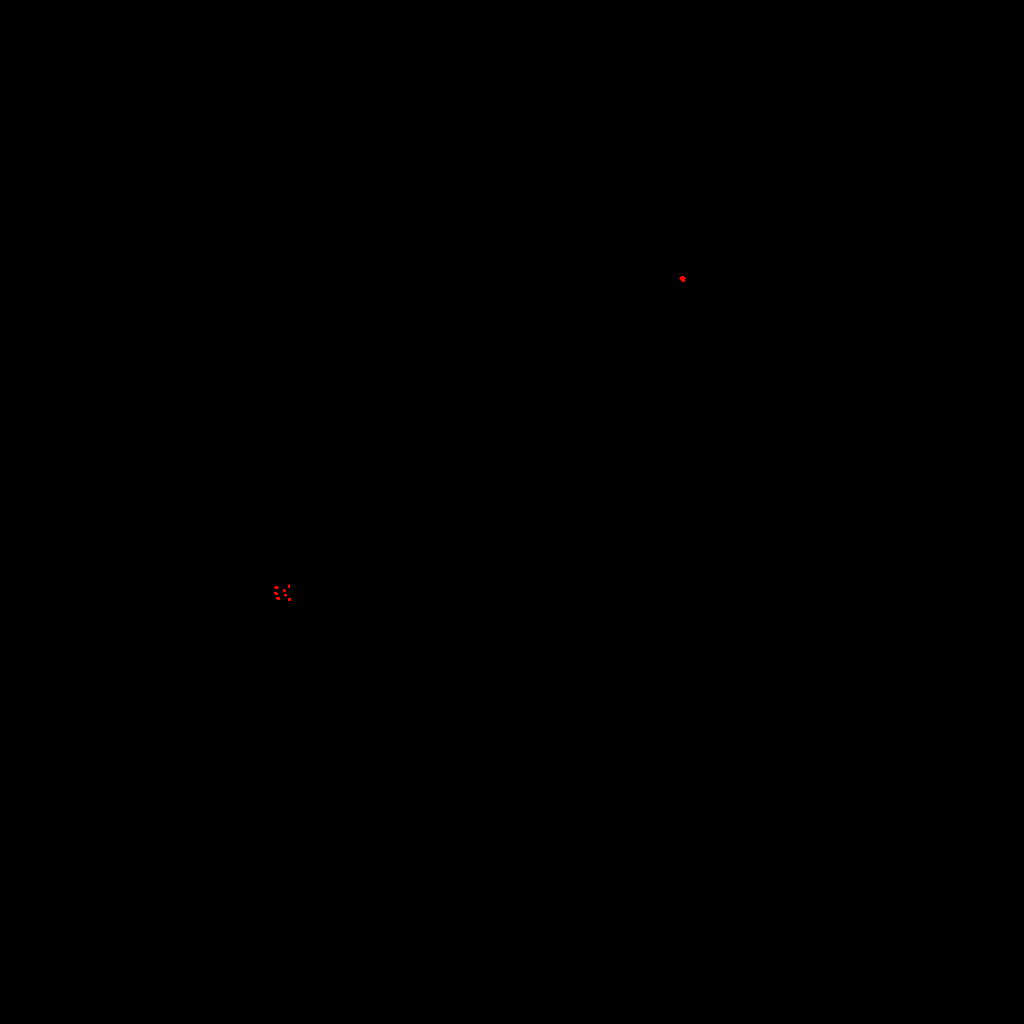Target: (679, 276, 686, 282), (274, 586, 279, 589), (274, 592, 278, 595), (276, 597, 280, 600), (283, 589, 286, 592), (284, 594, 287, 597), (288, 598, 291, 601), (288, 584, 290, 588)
